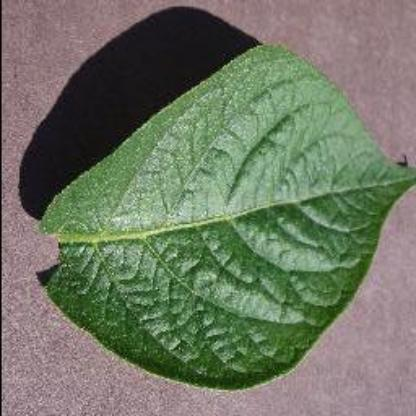Healthy-plant: (32, 44, 416, 394)
